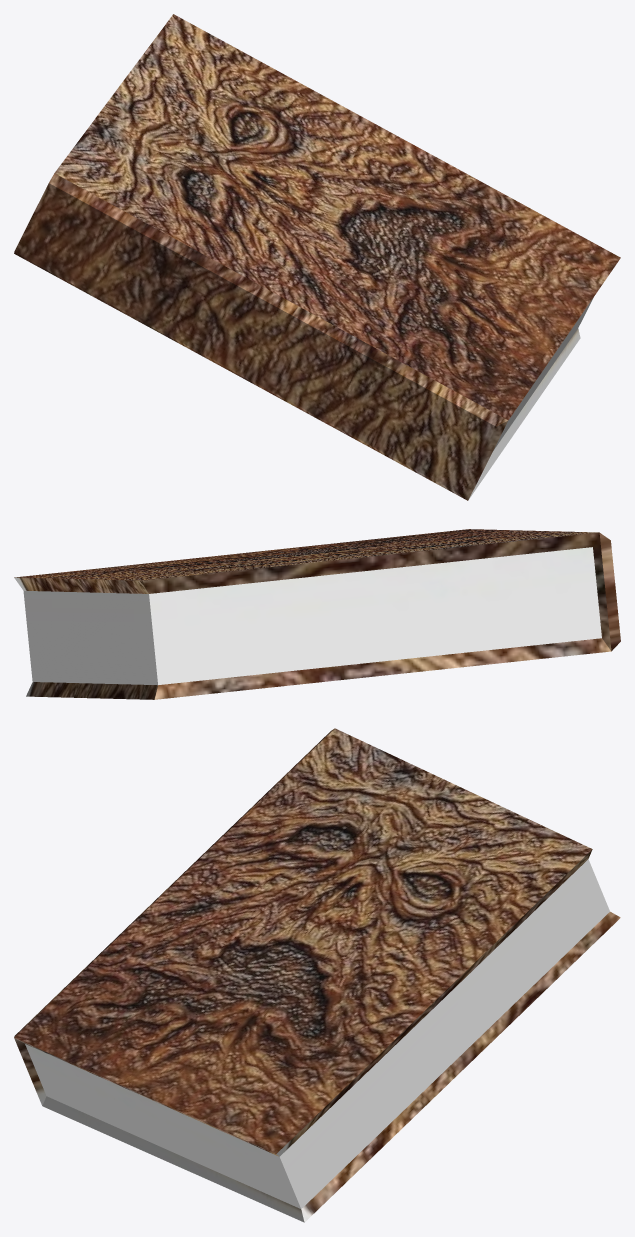
Rendered from Necro_uv.glb.
3 renders of one model, top to bottom at view 1: azimuth 30°, elevation 25°; view 2: azimuth 150°, elevation 25°; view 3: azimuth 270°, elevation 25°, orthographic. The views are drawn at different scales.
Size of the model in its own units: 2.7 by 1.27 by 2.68.
Materials: 1 (1 with a texture image).
